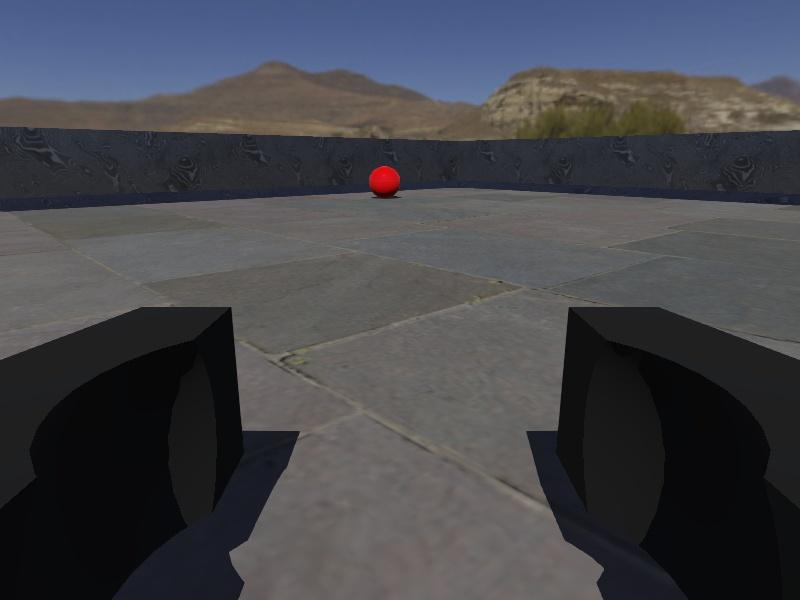red ball: (368, 164, 401, 199)
